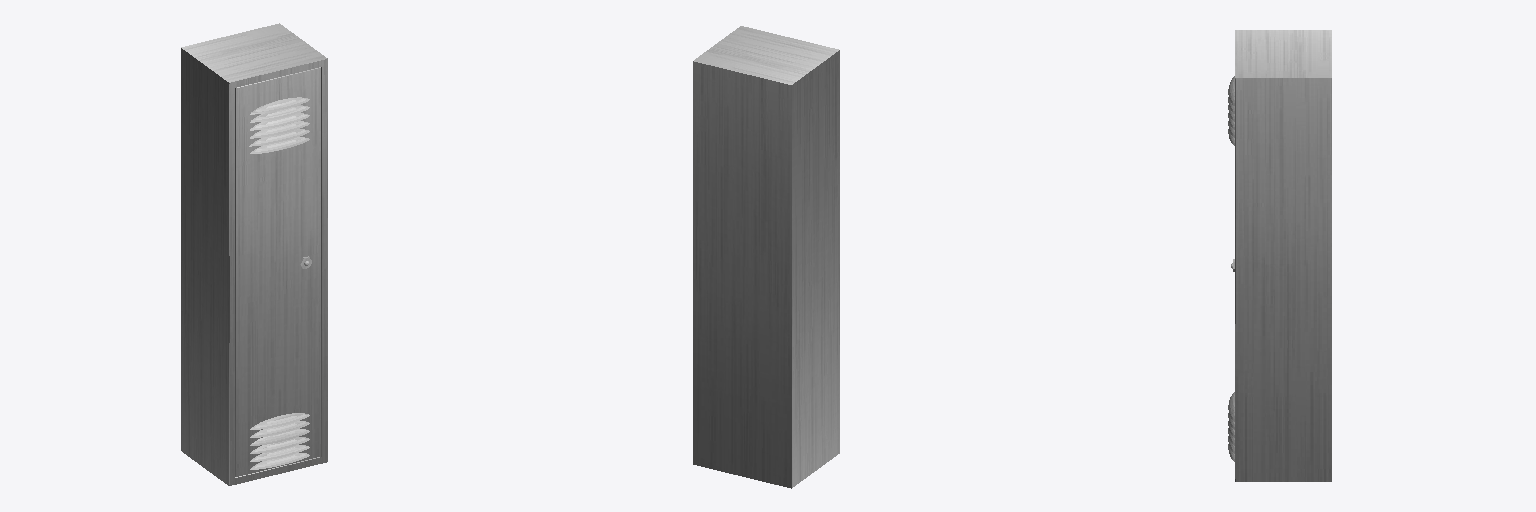
3 renders of one model, left to right at view 1: azimuth 30°, elevation 25°; view 2: azimuth 150°, elevation 25°; view 3: azimuth 270°, elevation 25°, orthographic.
Parts seen in each view (by area): view 1: Mesh; view 2: Mesh; view 3: Mesh.
Part boxes in pixels (x1,y1,x2,y2): Mesh: (181, 23, 327, 485); Mesh: (693, 26, 839, 488); Mesh: (1228, 30, 1331, 481).
Bounding box in the file's own units: 1.96 × 7.62 × 1.77.
1 materials, 1 textured.